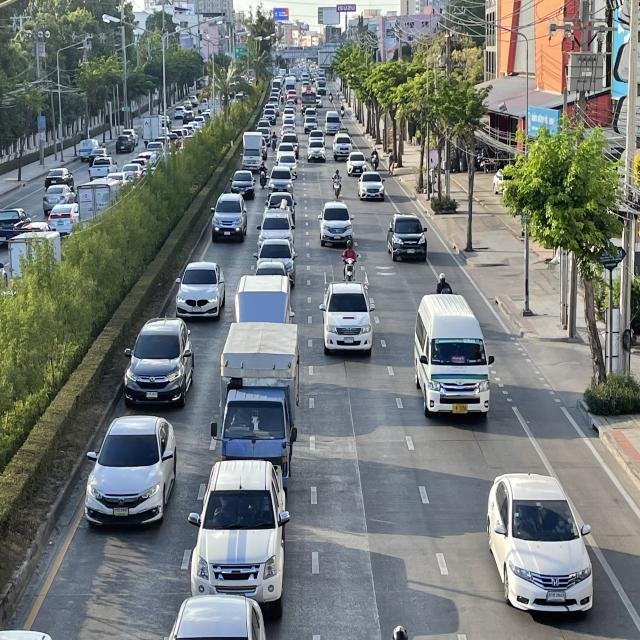bike: (432, 271, 457, 299), (342, 239, 358, 282), (332, 168, 342, 198), (258, 160, 268, 190)
car: (486, 470, 598, 620), (190, 460, 289, 618), (84, 415, 179, 535), (412, 294, 495, 424), (122, 316, 196, 409), (174, 261, 226, 322), (387, 210, 428, 265), (254, 238, 297, 287), (318, 201, 356, 248), (256, 210, 296, 252)
truck: (212, 318, 299, 491), (321, 270, 374, 358), (234, 271, 291, 335)
